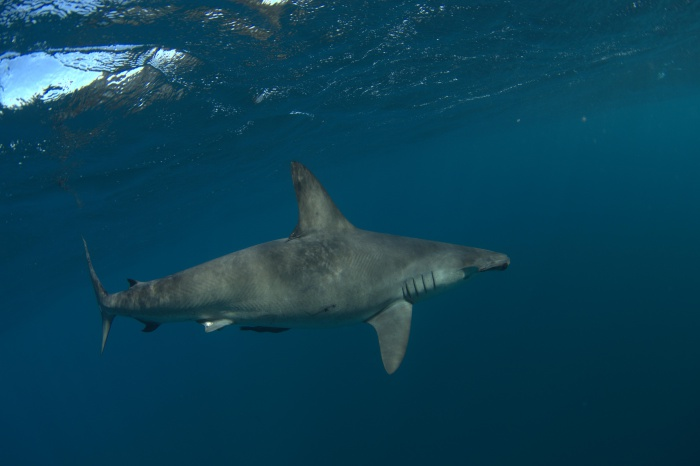Hammer: (63, 157, 521, 389)
